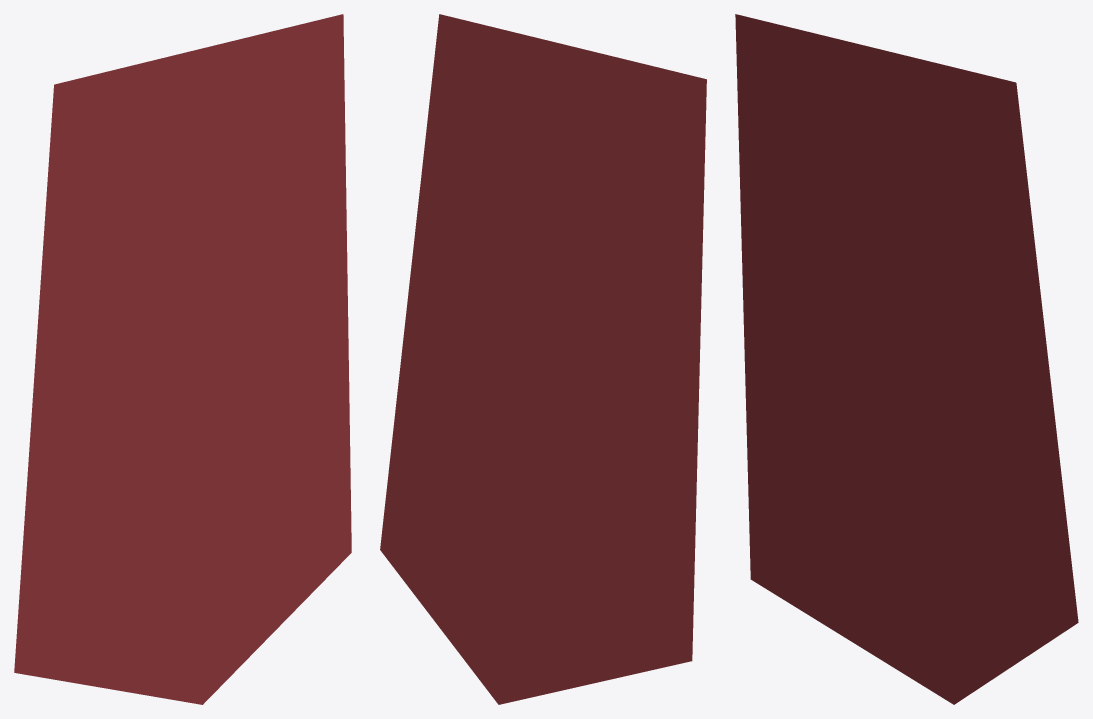
The model's file is wk_shell_back_cape_v01.glb.
3 renders of one model, left to right at view 1: azimuth 30°, elevation 25°; view 2: azimuth 150°, elevation 25°; view 3: azimuth 330°, elevation 25°, orthographic. The views are drawn at different scales.
Visible parts, largest first — view 1: GEO_Cape; view 2: GEO_Cape; view 3: GEO_Cape.
Boxes of the visible parts, box(x1,y1,x2,y2) form: GEO_Cape: box(14, 14, 351, 704); GEO_Cape: box(380, 14, 706, 704); GEO_Cape: box(735, 14, 1078, 704).
Size of the model in its own units: 0.56 by 1.1 by 0.11.
